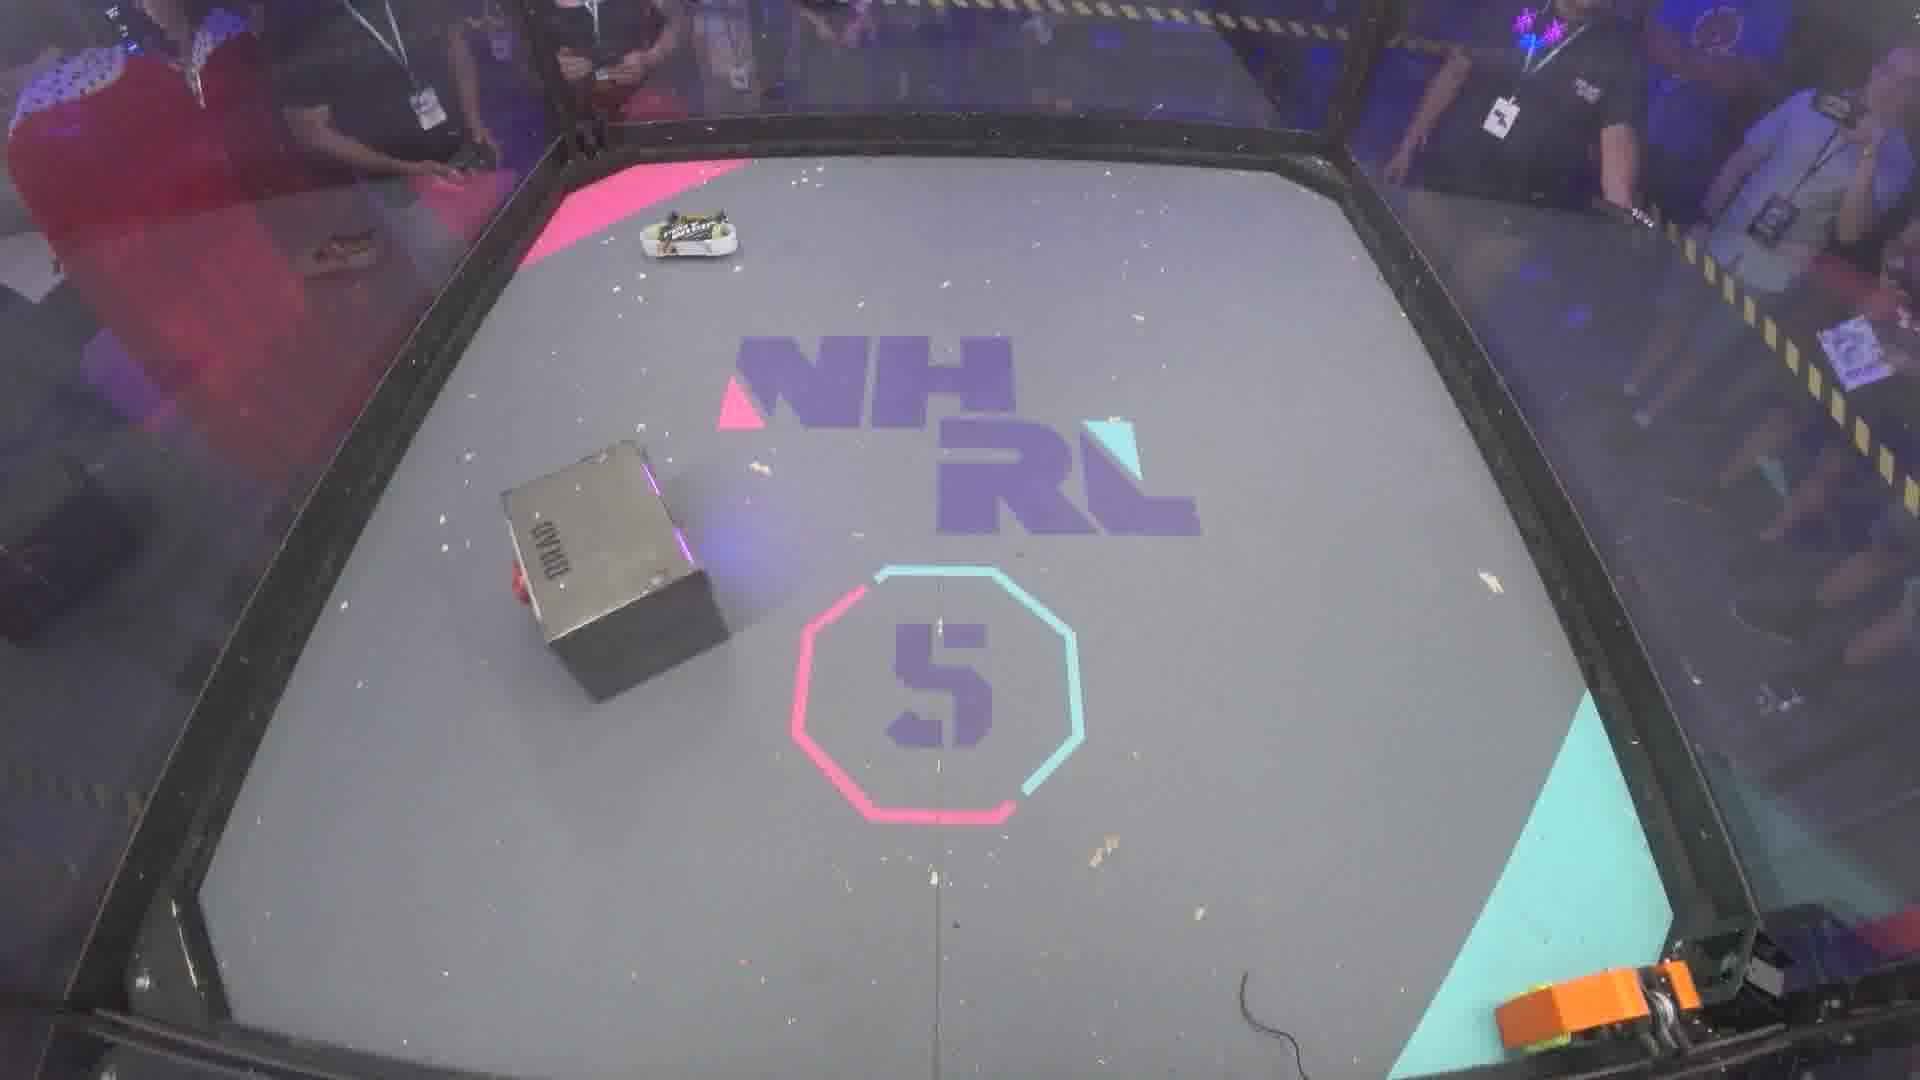belt: (1236, 973, 1317, 1080)
combatbot: (1497, 961, 1704, 1060), (644, 210, 742, 262)
housebot: (501, 443, 727, 709)
